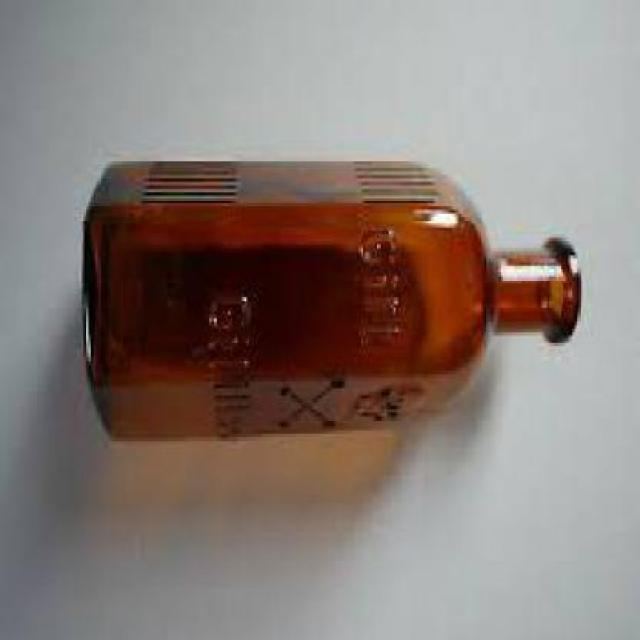kaca: (82, 154, 580, 440)
